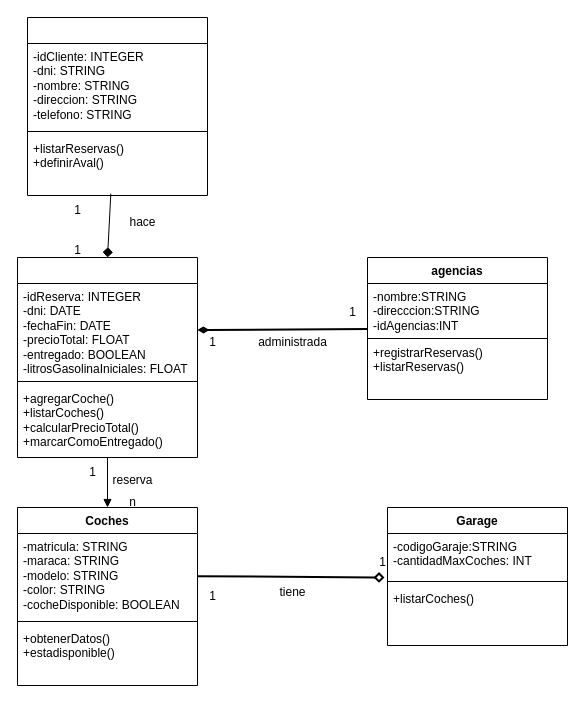
Some shapes in this 585 by 706 pixel diagram are drawn without their labels. Here are the shapes that lost their labels. From the top down, the box of each, then its label:
(26, 16, 208, 196): Clientes
(16, 256, 198, 458): reservas
